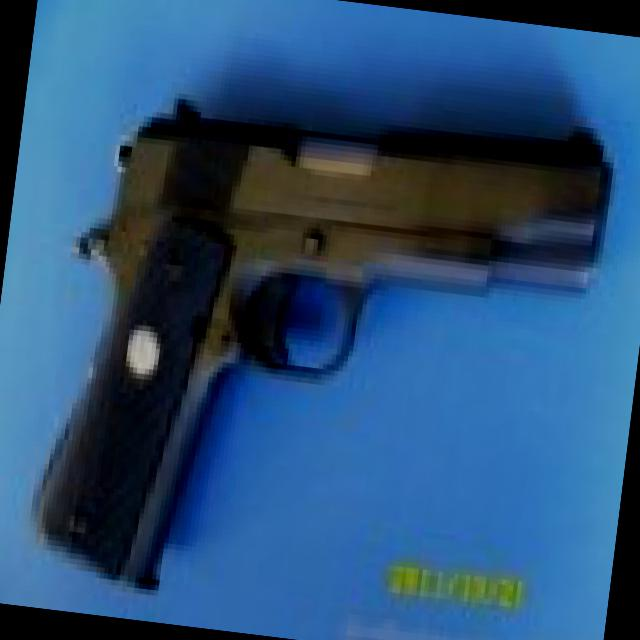handgun: (3, 64, 613, 638)
